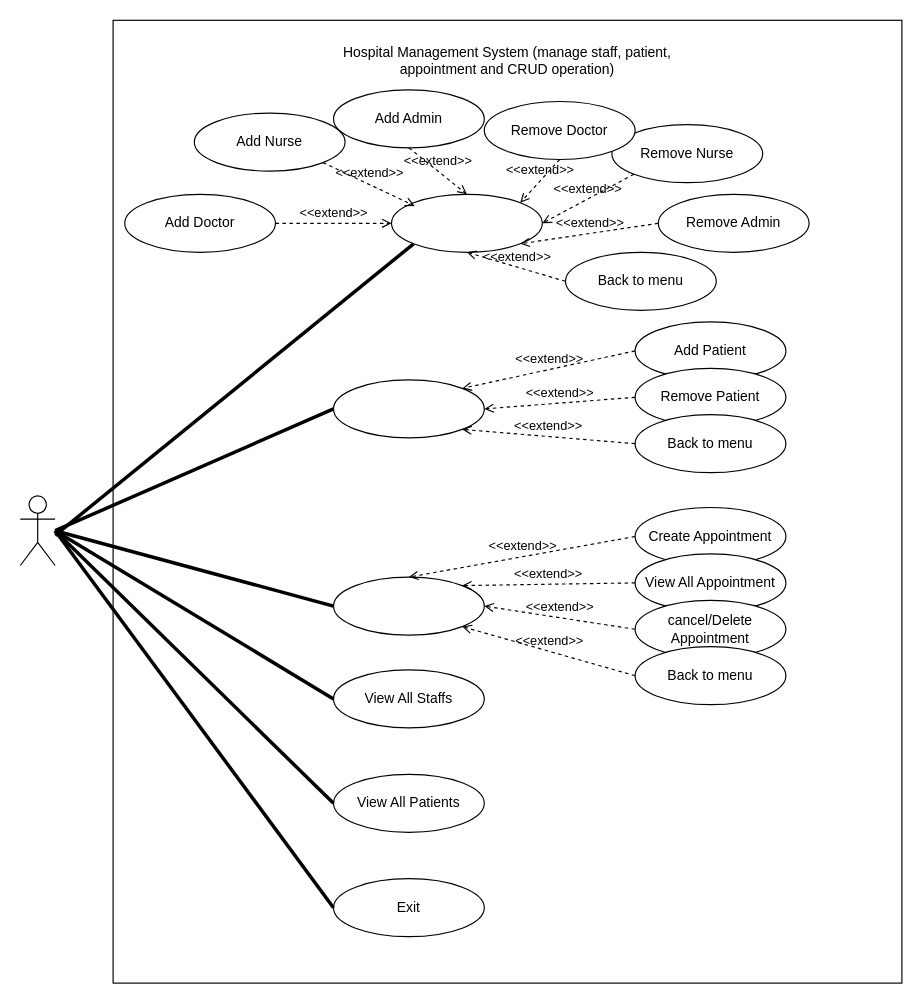
Image size: 922x1003. Some labels were removed from this diagram. Each missing label, with the centre of its shape:
"Appointment Management" belongs at point 408,605.
"Patient Management" belongs at point 408,408.
"Staff Management" belongs at point 466,222.
"User" belongs at point 37,530.
